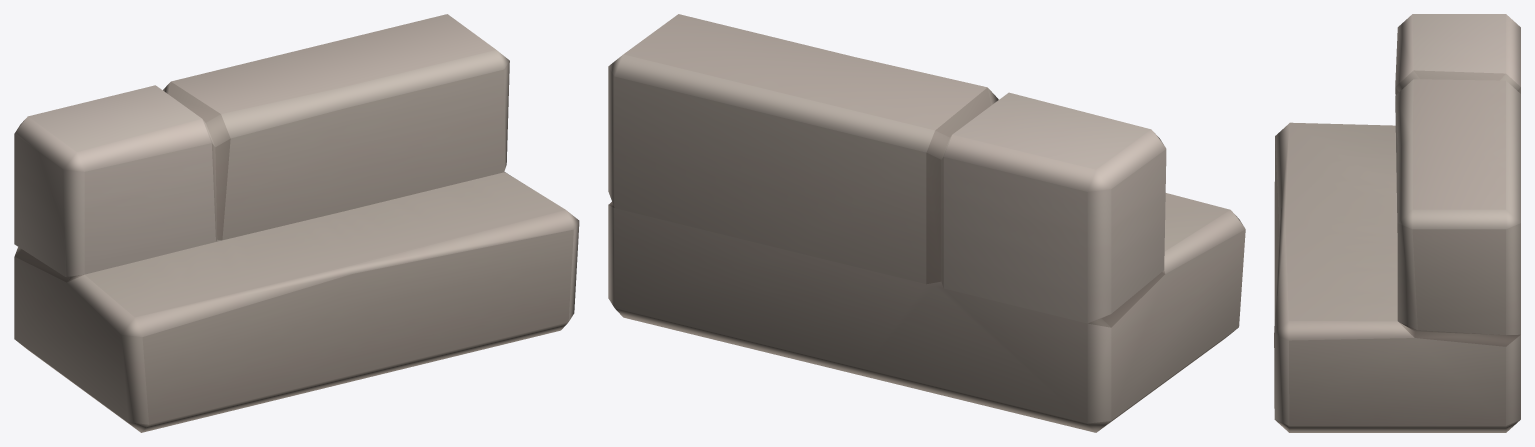
Rendered from elf_stairs_half_2_shade_1.fbx.
3 renders of one model, left to right at view 1: azimuth 30°, elevation 25°; view 2: azimuth 150°, elevation 25°; view 3: azimuth 270°, elevation 25°, orthographic. The views are drawn at different scales.
Parts seen in each view (by area): view 1: elf_stairs_half_2_shade_1; view 2: elf_stairs_half_2_shade_1; view 3: elf_stairs_half_2_shade_1.
Boxes of the visible parts, x1,y1,x2,y2 form: elf_stairs_half_2_shade_1: [14, 14, 579, 432]; elf_stairs_half_2_shade_1: [608, 14, 1245, 432]; elf_stairs_half_2_shade_1: [1274, 14, 1520, 432].
Bounding box in the file's own units: 102 × 50.51 × 50.1.
